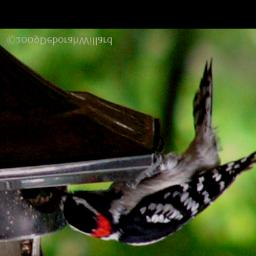Woodpecker: (49, 56, 256, 248)
